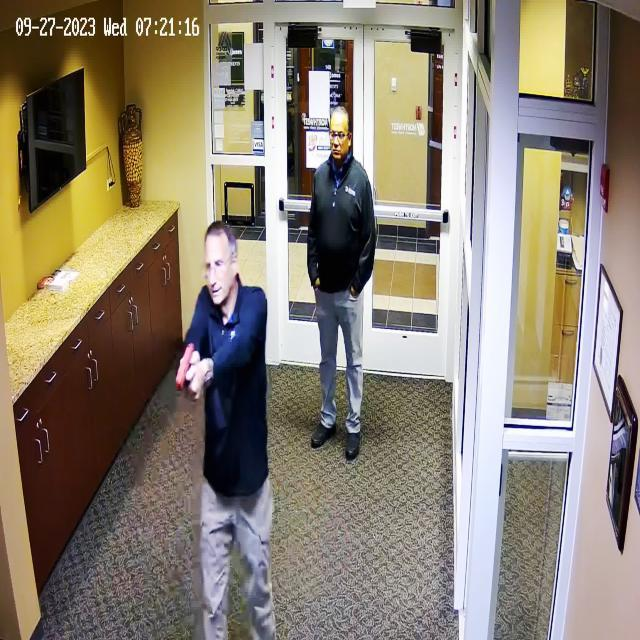Gun: (164, 337, 214, 394)
